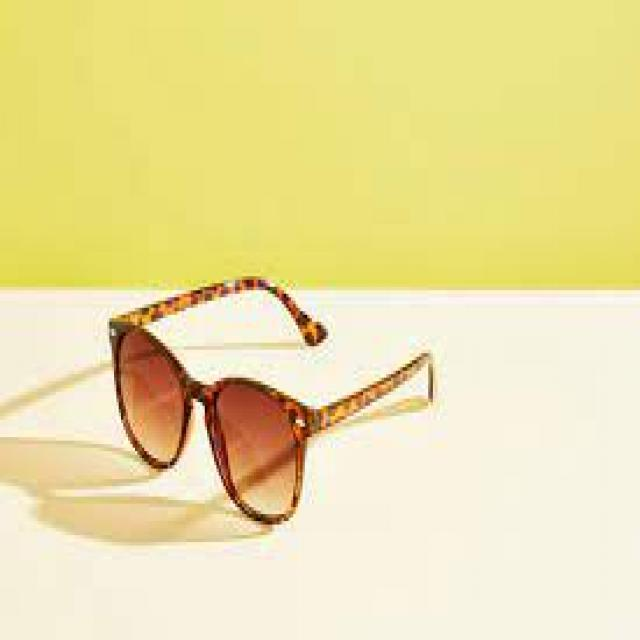suspicious-objects: (100, 295, 331, 537)
